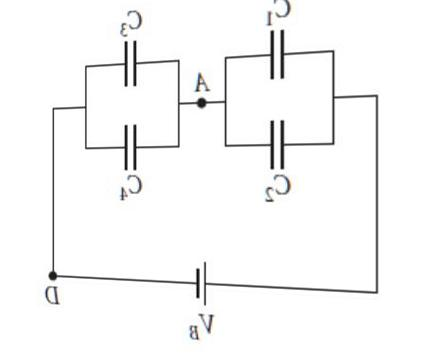Battery: (180, 251, 225, 300)
